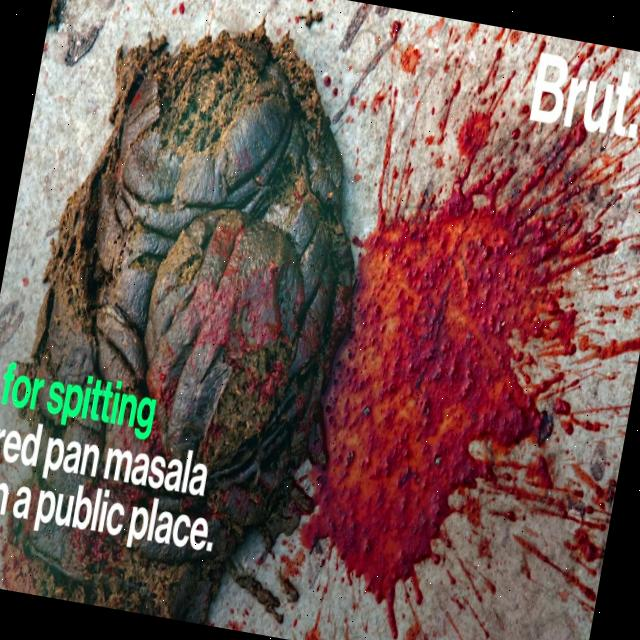spit: (301, 132, 590, 640)
